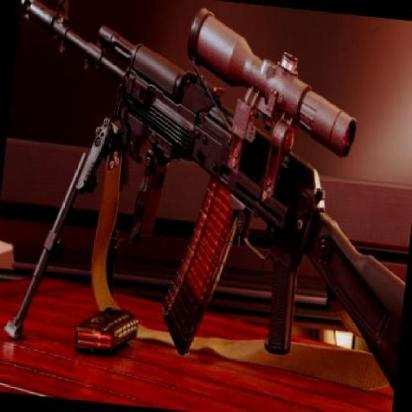Gun: (25, 0, 404, 381)
